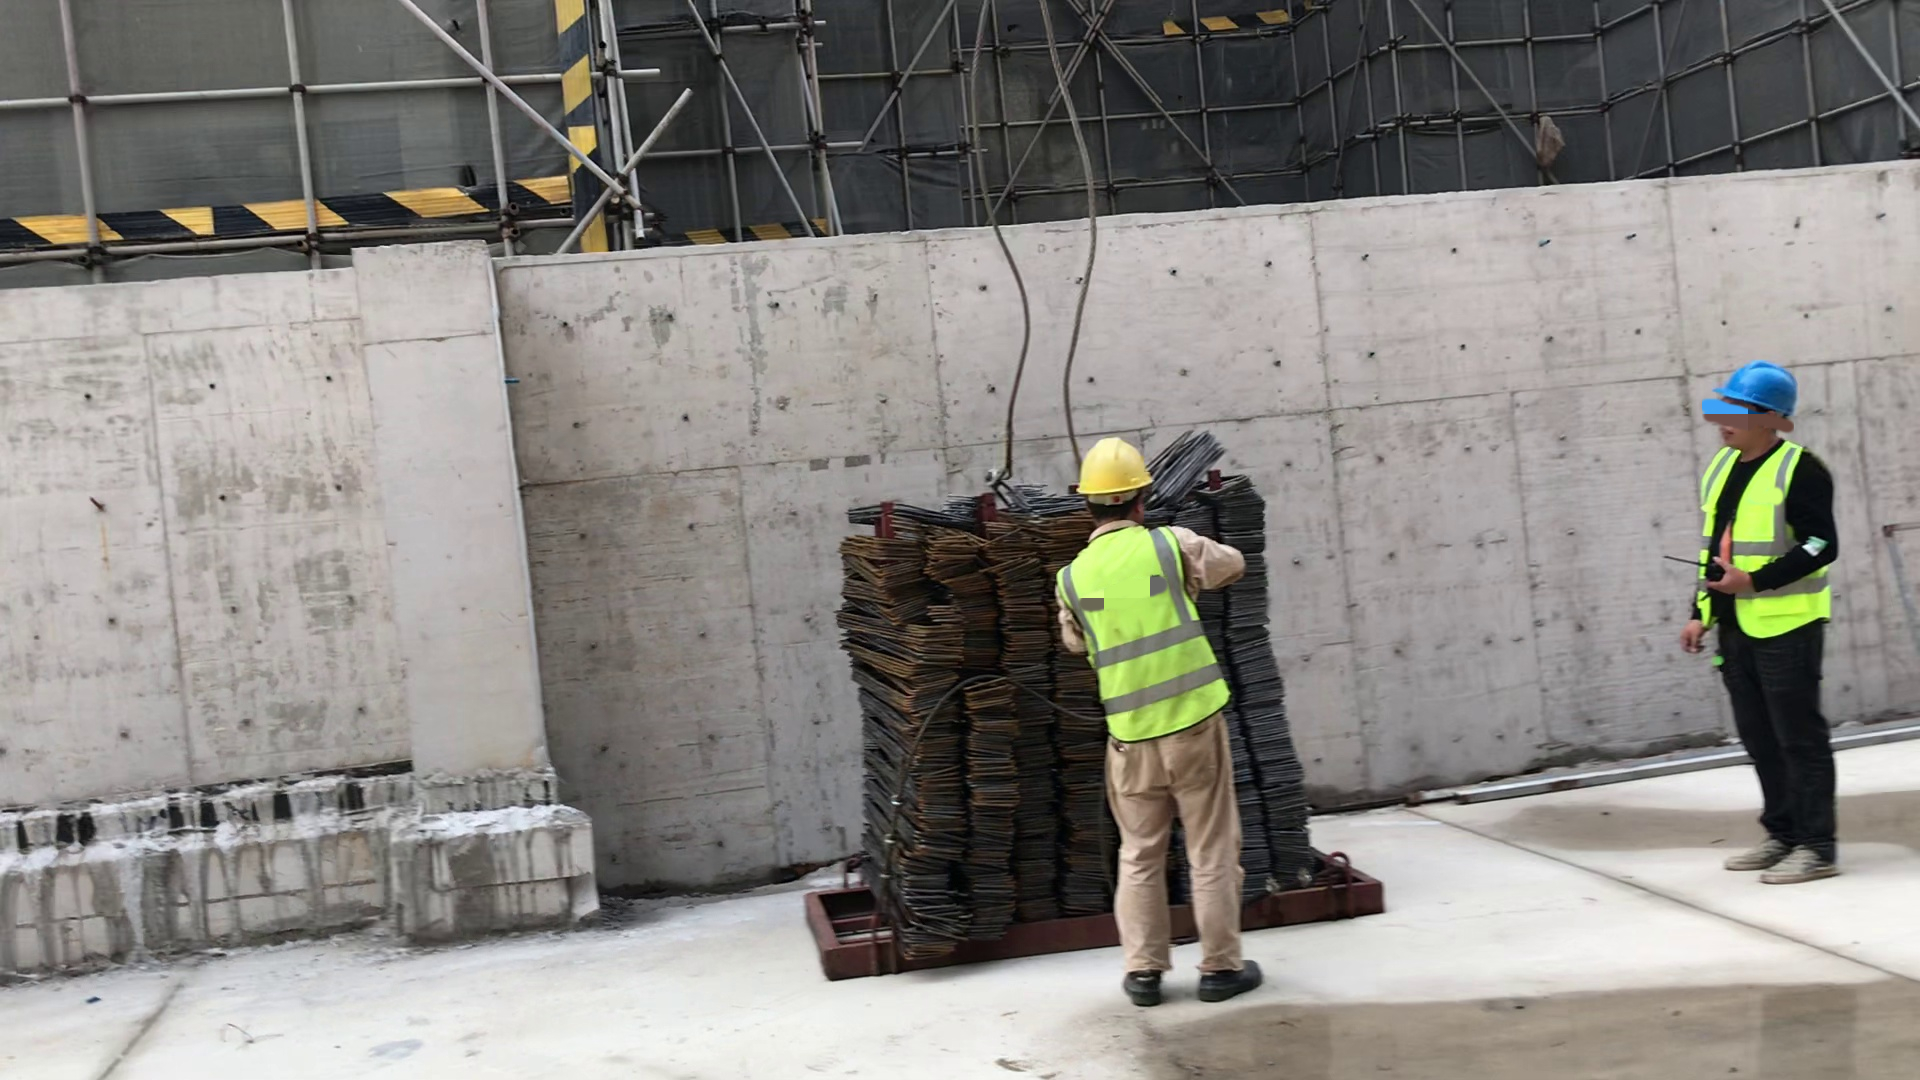helmet: (1079, 437, 1160, 508), (1726, 358, 1815, 418)
person: (1060, 433, 1270, 1025), (1670, 360, 1874, 913)
vest: (1071, 533, 1225, 720), (1703, 456, 1839, 628)
